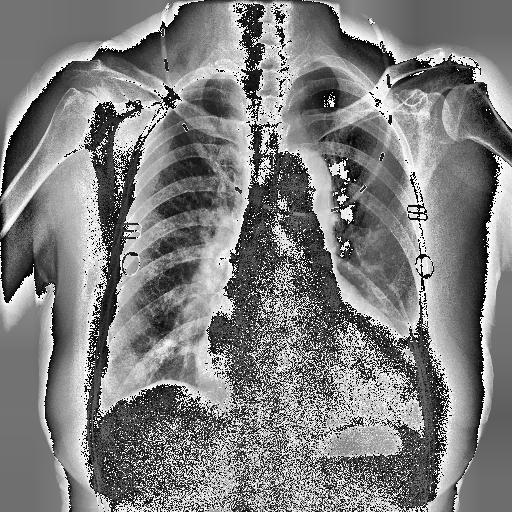0- Aortic enlargement: (274, 144, 332, 211), (280, 150, 332, 218), (279, 150, 330, 212)
3- Cardiomegaly: (192, 310, 422, 426), (194, 313, 422, 428), (194, 314, 420, 413)
9- Other lesion: (341, 226, 421, 330)
